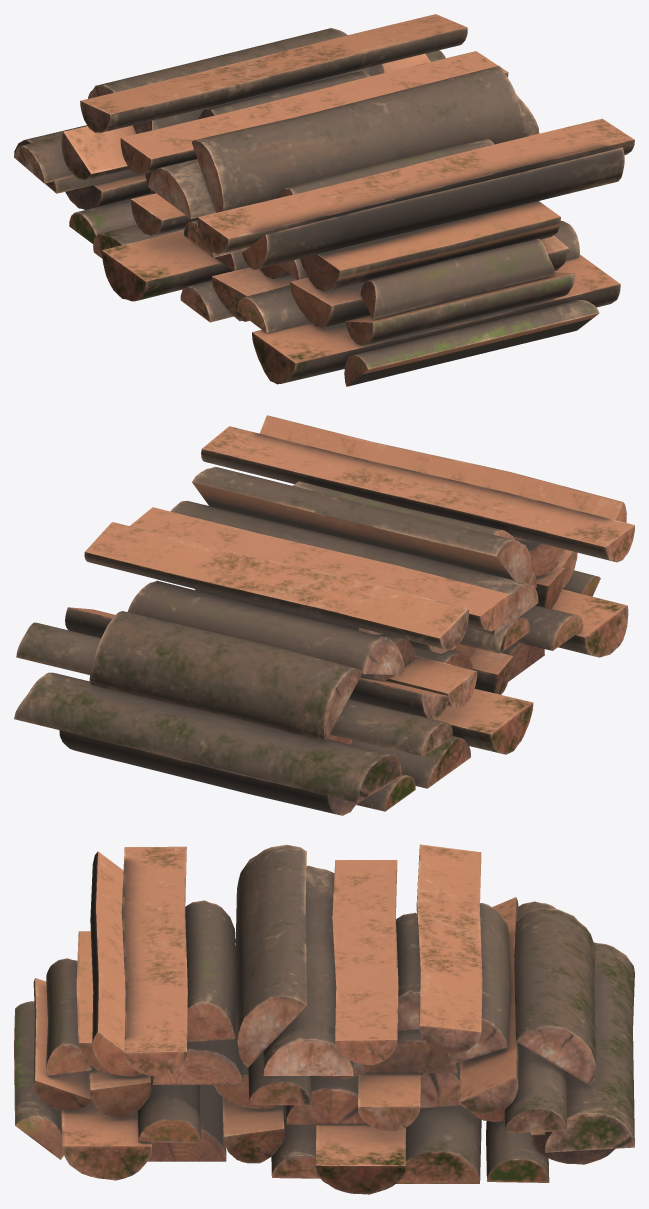
The model's file is SM_PileOfWoodS2.fbx.
The picture shows the model from 3 angles, top to bottom: view 1: azimuth 30°, elevation 25°; view 2: azimuth 150°, elevation 25°; view 3: azimuth 270°, elevation 25°; orthographic projection. The views are drawn at different scales.
Parts seen in each view (by area): view 1: SM_PileOfWoodS2_LOD0; view 2: SM_PileOfWoodS2_LOD0; view 3: SM_PileOfWoodS2_LOD0.
Boxes of the visible parts, x1,y1,x2,y2 form: SM_PileOfWoodS2_LOD0: (14, 14, 634, 386); SM_PileOfWoodS2_LOD0: (14, 415, 634, 815); SM_PileOfWoodS2_LOD0: (14, 844, 634, 1194).
Bounding box in the file's own units: 78.24 × 98.69 × 32.01.
Materials: 1 (1 with a texture image).
